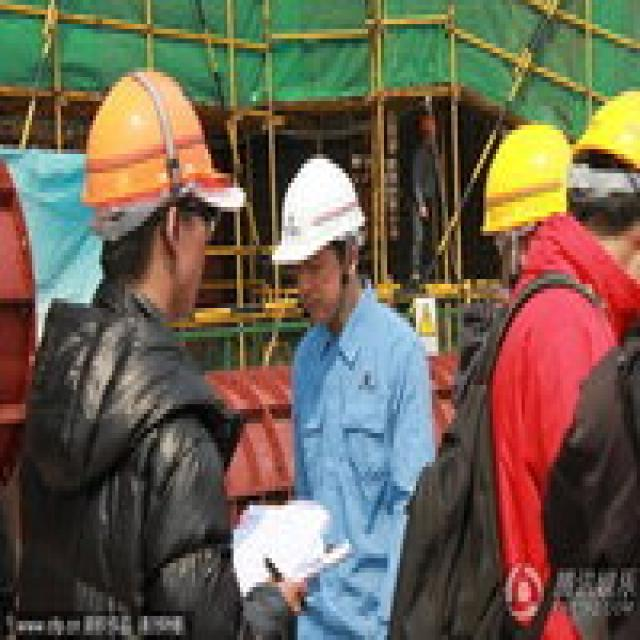helmet: (77, 58, 237, 327), (259, 140, 365, 327), (563, 77, 637, 303), (477, 111, 576, 260)
